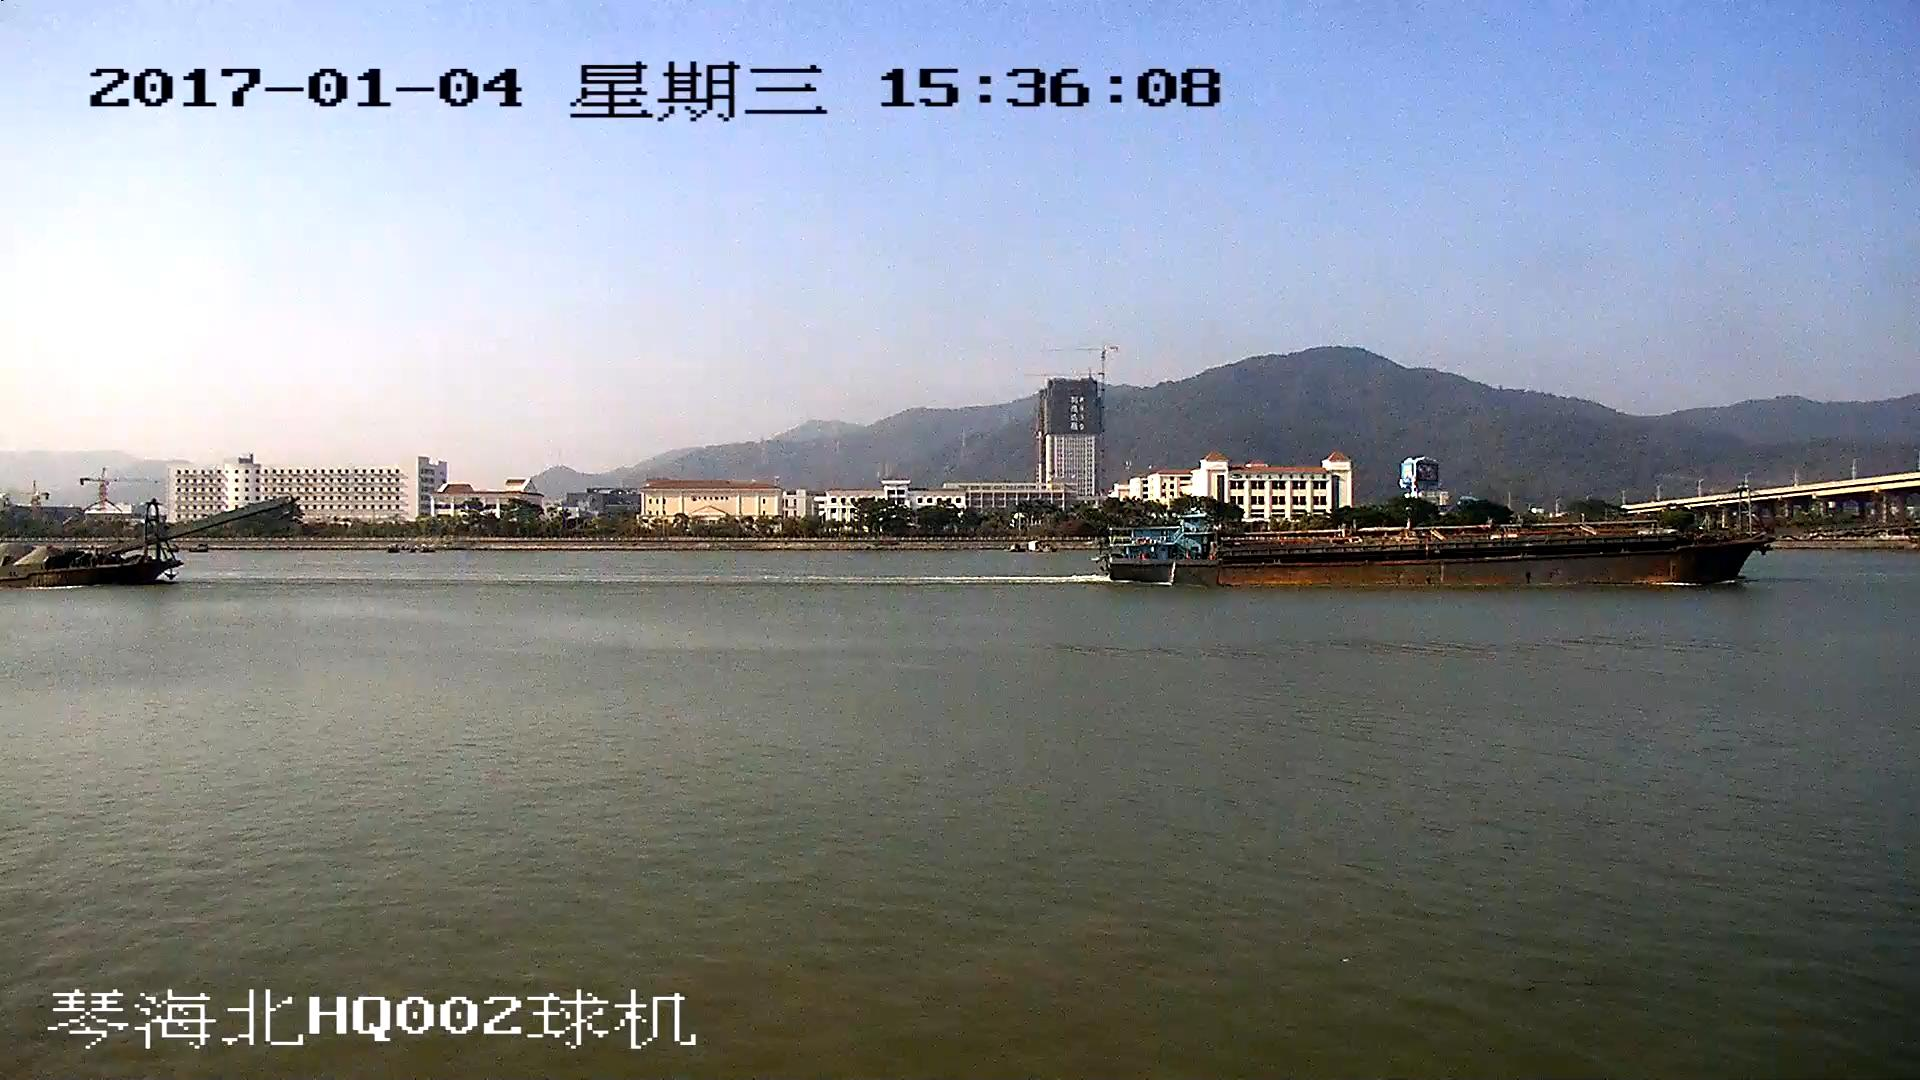bulk cargo carrier: (1111, 519, 1764, 587)
ore carrier: (1, 496, 288, 585)
